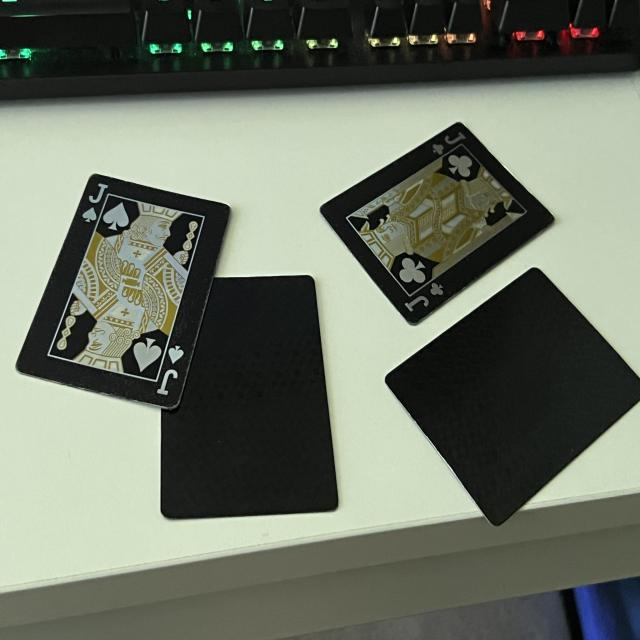BACK: (380, 259, 640, 535), (159, 265, 345, 526)
JC: (403, 280, 446, 318), (426, 125, 469, 158)
JS: (156, 339, 182, 402), (81, 172, 106, 225)
